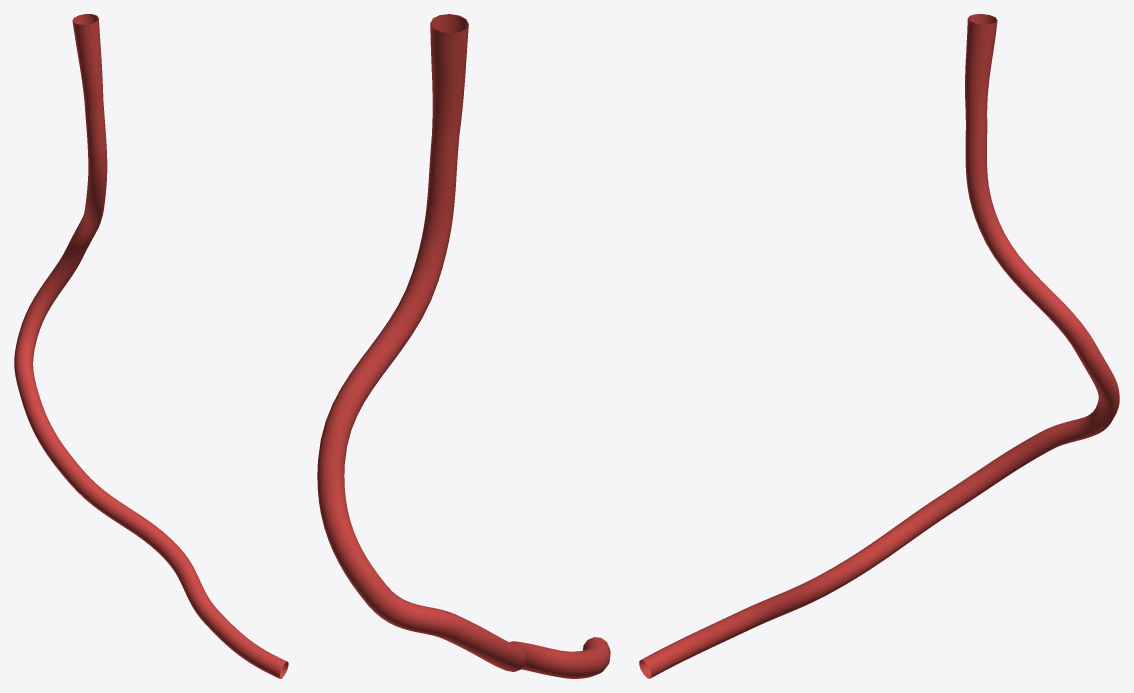
3 views of the same model, side by side, from view 1: azimuth 30°, elevation 25°; view 2: azimuth 150°, elevation 25°; view 3: azimuth 270°, elevation 25° (orthographic). The views are drawn at different scales.
Visible parts, largest first — view 1: 右侧面动脉; view 2: 右侧面动脉; view 3: 右侧面动脉.
Part boxes in pixels (x1,y1,x2,y2): 右侧面动脉: (14,14,288,678); 右侧面动脉: (317,14,610,678); 右侧面动脉: (639,14,1119,678).
Size of the model in its own units: 0.0171 by 0.0965 by 0.0663.
